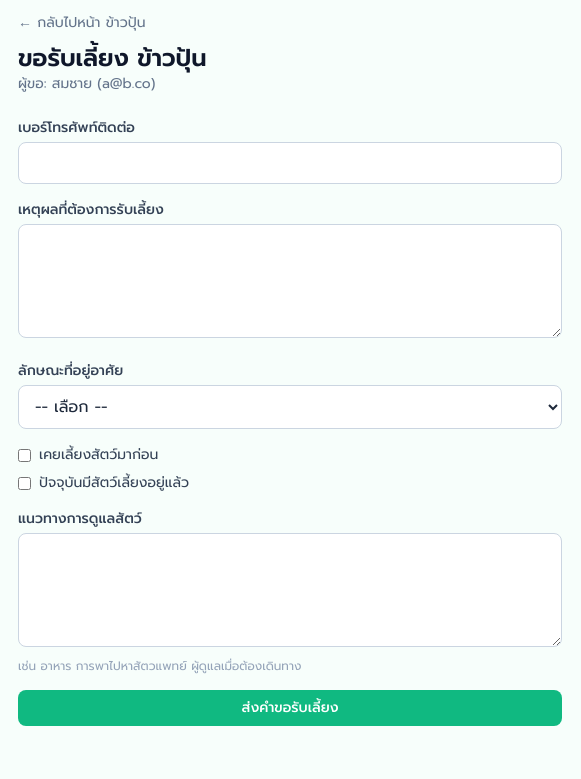
Test: server ตอบ 409 ต้องแสดงข้อความจาก server และไม่ออกจากหน้าฟอร์ม
The width and height of the screenshot is (581, 779).
Check: the heading "ขอรับเลี้ยง ข้าวปุ้น" is shown, box [18,40,206,76]
Type "0812345678" into the field labelled "เบอร์โทรศัพท์ติดต่อ" at (290,163), box [18,142,562,184]
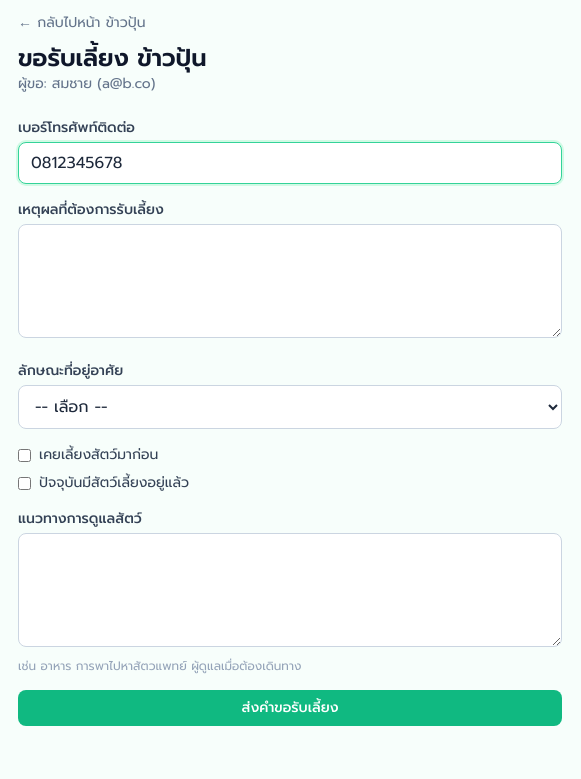
Type "อยากมีเพื่อนในบ้านและมีเวลาดูแล" into the text box labelled "เหตุผลที่ต้องการรับเลี้ยง" at (290,281), box [18,224,562,338]
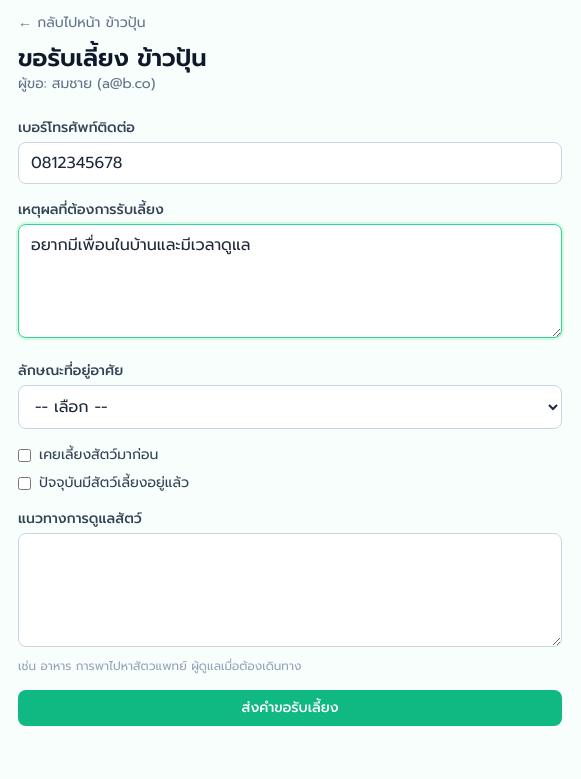
Select "บ้าน" in the dropdown labelled "ลักษณะที่อยู่อาศัย" at (290,407), box [18,385,562,429]
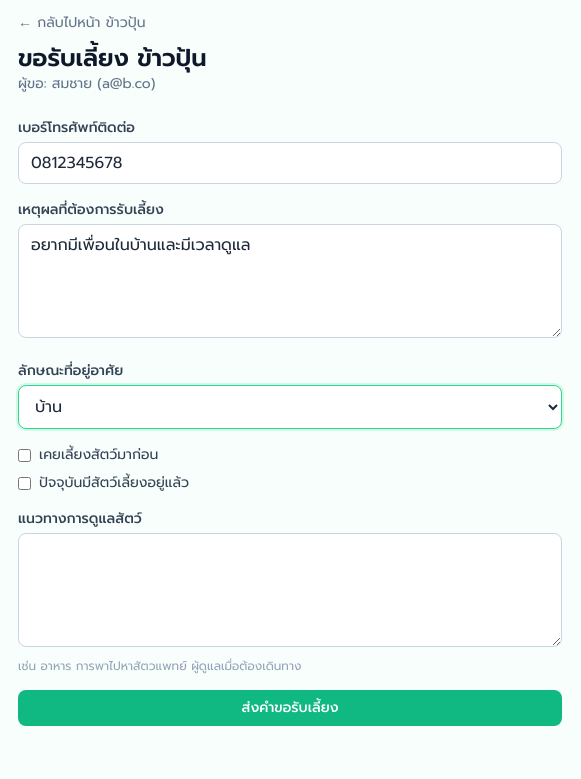
Type "ให้อาหารตรงเวลา พาไปหาหมอ" into the text box labelled "แนวทางการดูแลสัตว์" at (290,590), box [18,533,562,647]
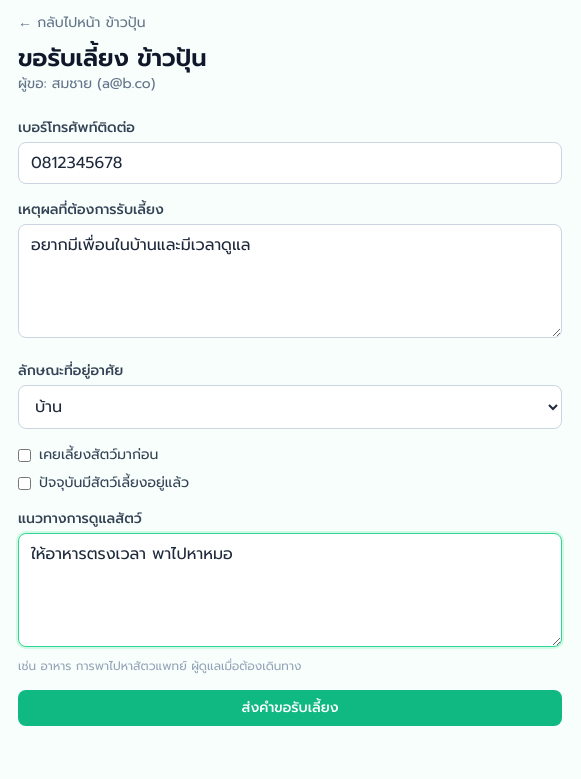
Click the button "ส่งคำขอรับเลี้ยง" at (290,708), box [18,690,562,726]
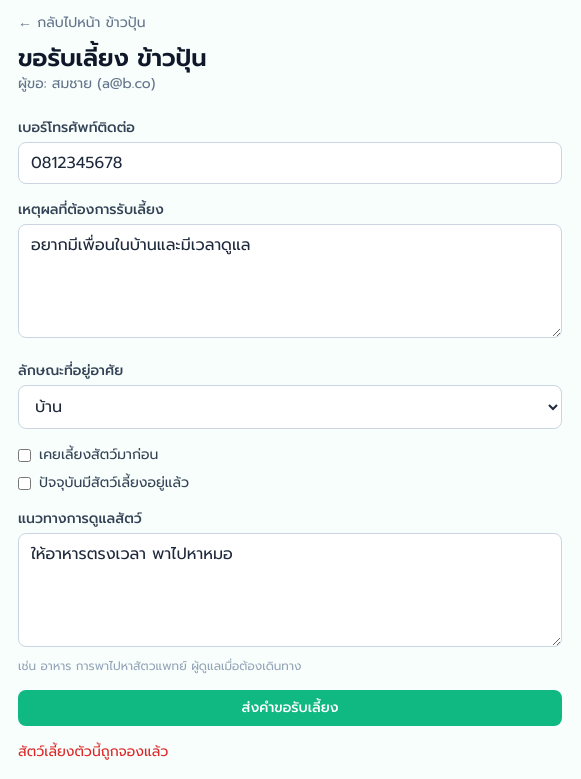
Check: the message reads "สัตว์เลี้ยงตัวนี้ถูกจองแล้ว", box [18,741,168,762]
